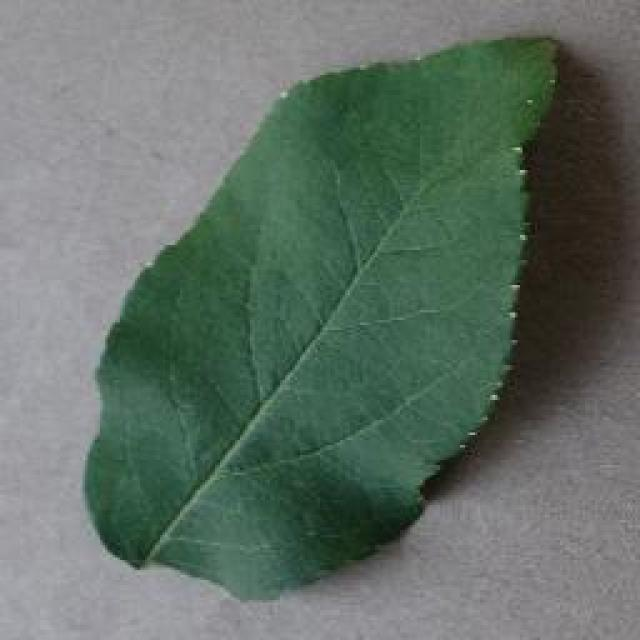apple healthy: (80, 30, 562, 602)
